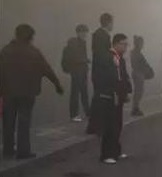person: (2, 23, 64, 160), (98, 32, 131, 166), (82, 12, 116, 136), (61, 23, 99, 123), (128, 34, 156, 117)
